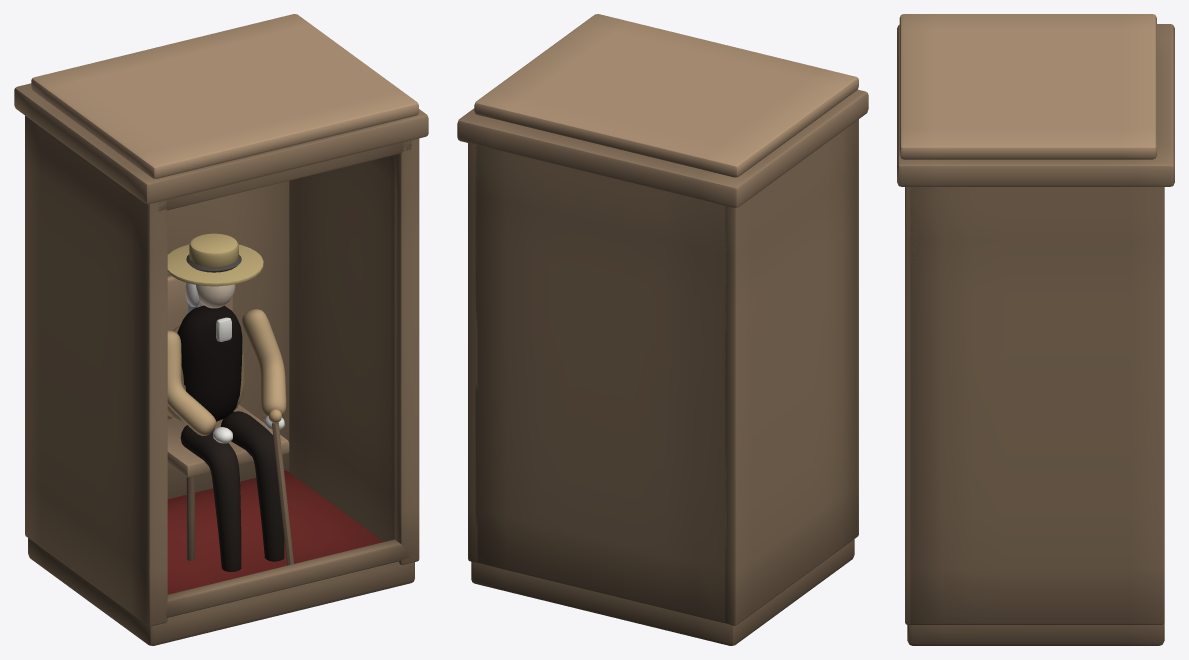
File: obj_kit_autoicon.glb
3 views of the same model, side by side, from view 1: azimuth 30°, elevation 25°; view 2: azimuth 150°, elevation 25°; view 3: azimuth 270°, elevation 25° (orthographic). The views are drawn at different scales.
Visible parts, largest first — view 1: Cube.002, Cube.007, Cube.004, Cube.001, Cube.010, Cube.006, Cube.005, Cube.003, Cube, Cube.008, body, thigh (+11 smaller); view 2: Cube.001, Cube.002, Cube.007, Cube.006, Cube, Cube.004, Cube.003; view 3: Cube.004, Cube.007, Cube.006, Cube, Cube.005.
Boxes of the visible parts, <box> form: Cube.002: <box>25,116,146,624</box>; Cube.007: <box>31,14,418,178</box>; Cube.004: <box>289,155,394,541</box>; Cube.001: <box>167,181,289,498</box>; Cube.010: <box>167,470,383,594</box>; Cube.006: <box>14,83,428,204</box>; Cube.005: <box>394,138,419,564</box>; Cube.003: <box>146,200,167,626</box>; Cube: <box>28,538,414,645</box>; Cube.008: <box>166,539,411,617</box>; body: <box>177,305,242,421</box>; thigh: <box>180,425,241,571</box>; Cube.001: <box>475,145,726,623</box>; Cube.002: <box>725,120,857,625</box>; Cube.007: <box>474,14,858,177</box>; Cube.006: <box>457,89,868,207</box>; Cube: <box>471,539,854,645</box>; Cube.004: <box>468,143,477,562</box>; Cube.003: <box>853,119,858,539</box>; Cube.004: <box>910,187,1164,624</box>; Cube.007: <box>899,14,1156,159</box>; Cube.006: <box>897,24,1174,186</box>; Cube: <box>907,622,1164,645</box>; Cube.005: <box>905,187,917,624</box>.
Bounding box in the file's own units: 1.32 × 2.15 × 1.08.
